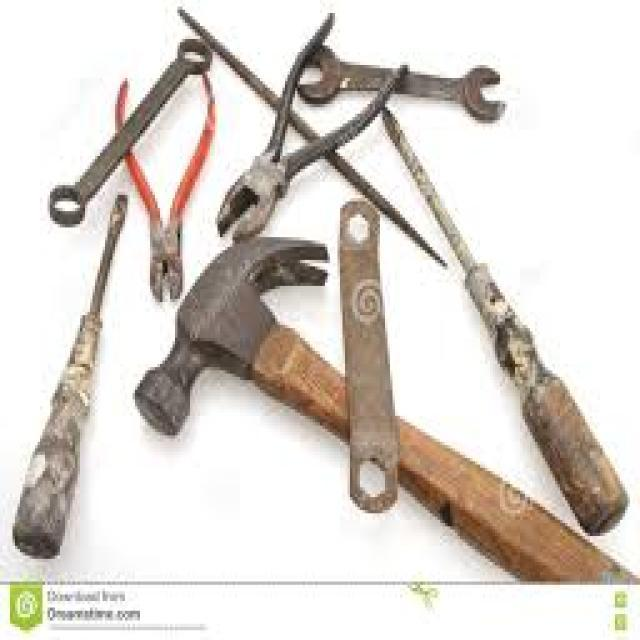Palu: (135, 226, 349, 520)
